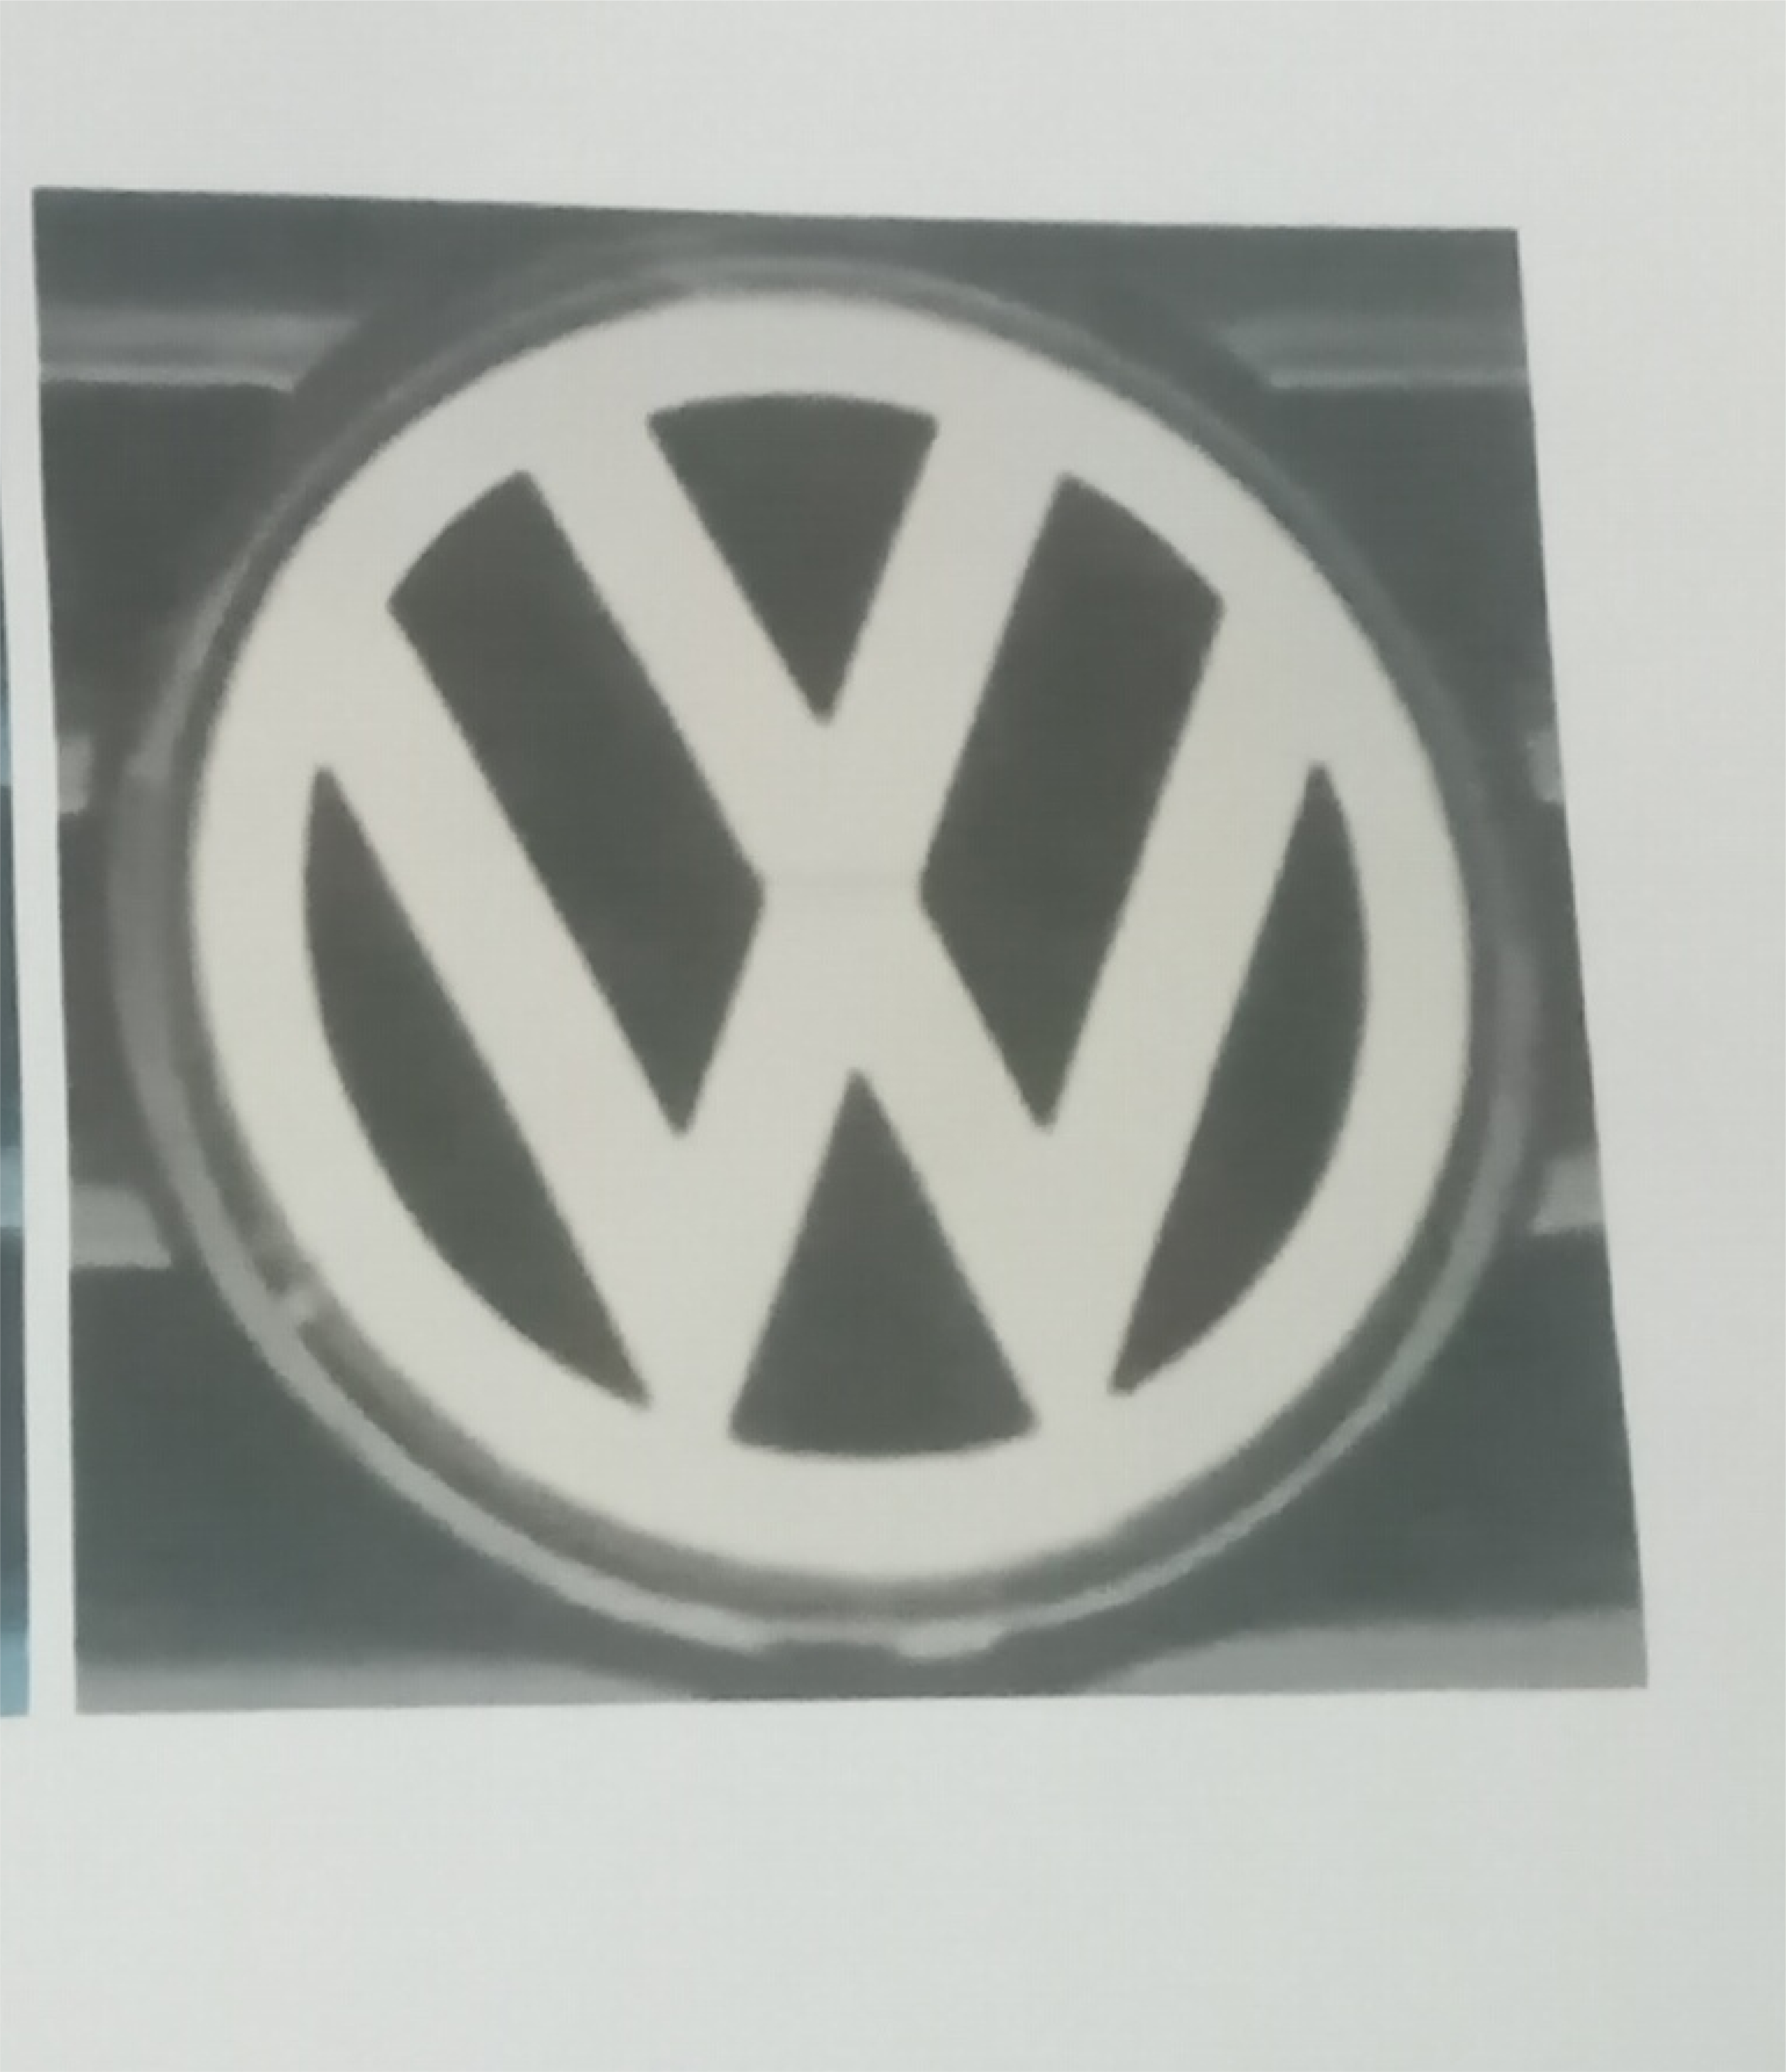Volkswagen: (56, 194, 1559, 1679)
